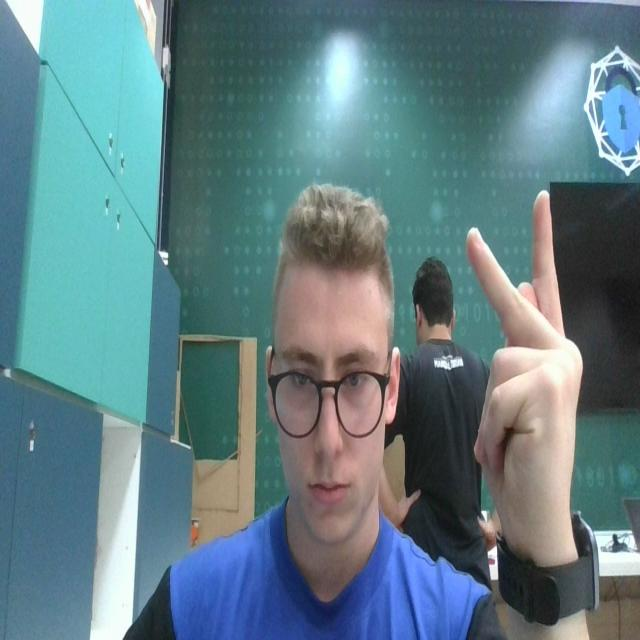K: (462, 188, 585, 553)
